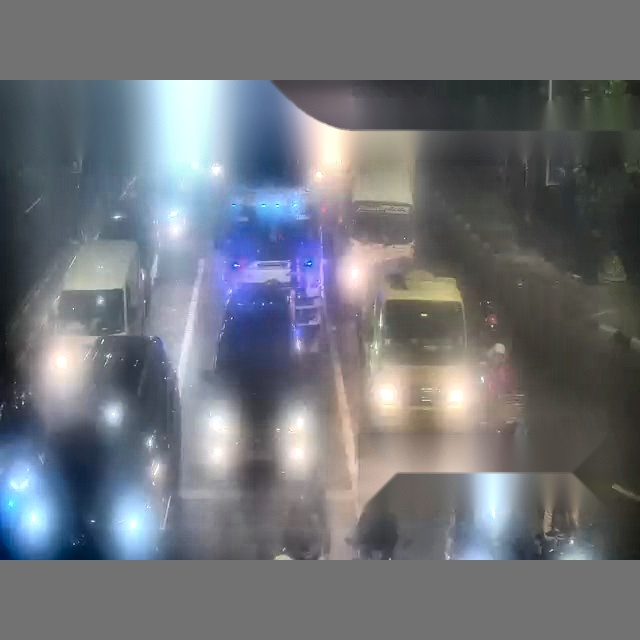Mobil: (0, 332, 177, 557)
